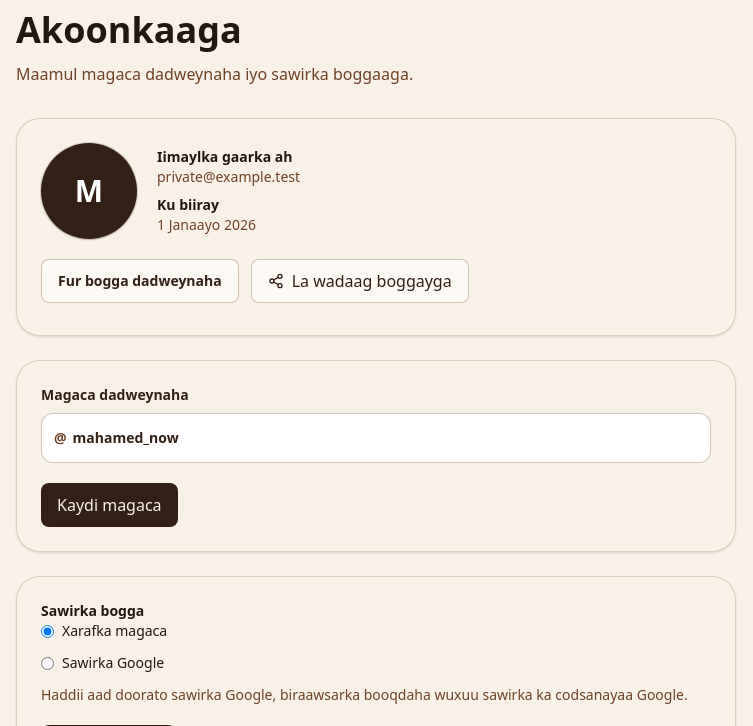
/account profile sharing › copies the canonical URL and nothing private
Click the button "La wadaag boggayga" at (360, 281), box [251,259,469,303]
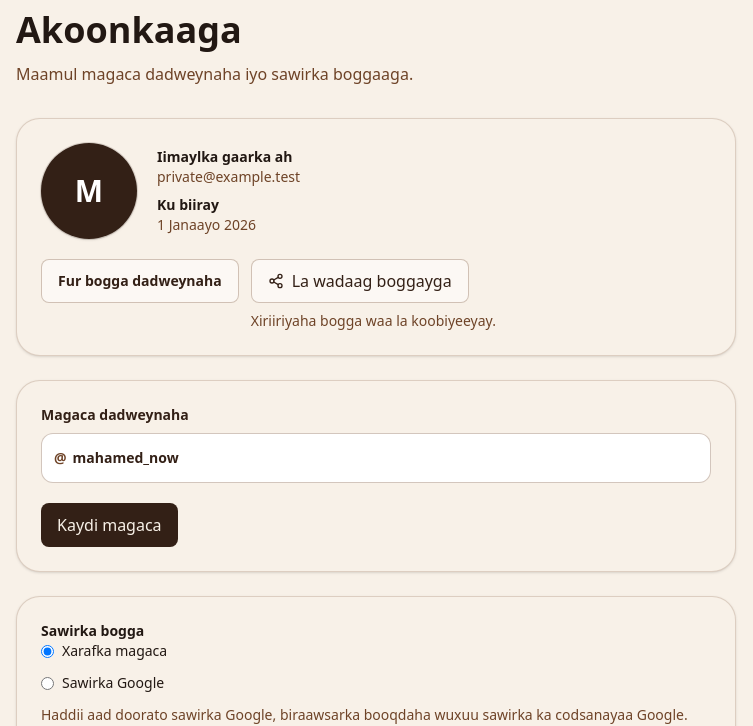
expect the message reads "Xiriiriyaha bogga waa la koobiyeeyay.": met, box [251,311,496,330]
